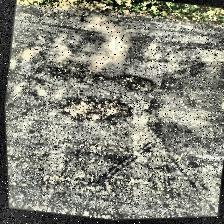pothole: (56, 90, 134, 130), (112, 72, 154, 96)
